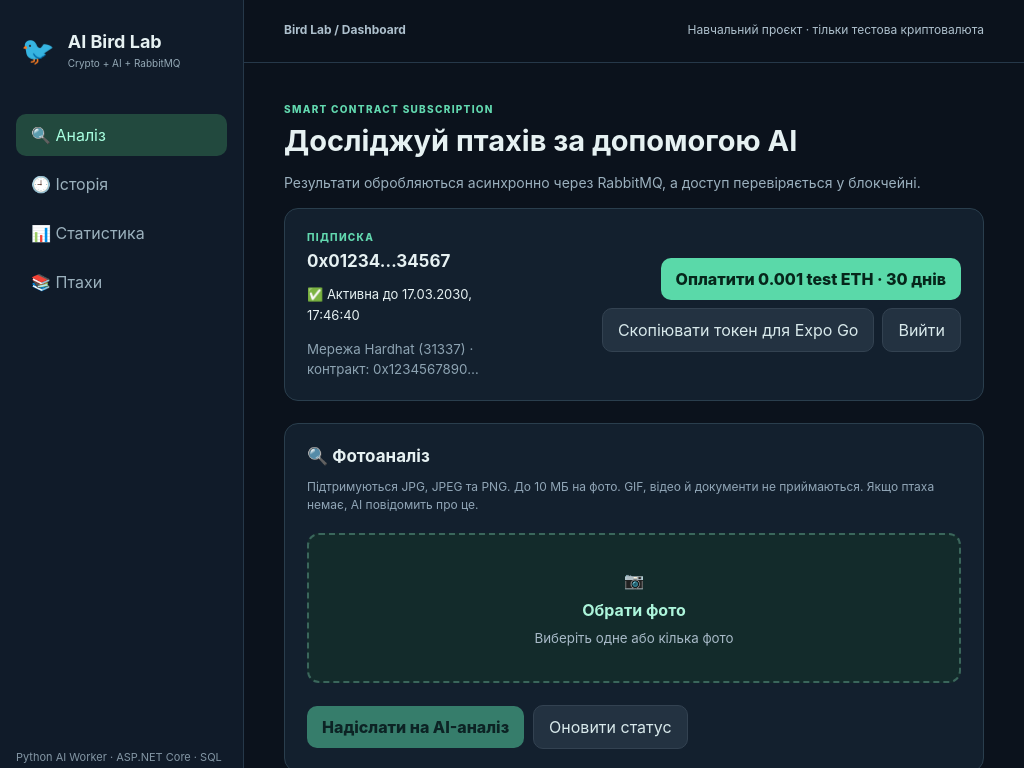
Test: handles a rejected subscription transaction
The width and height of the screenshot is (1024, 768).
Step 1. Click the button "Оплатити 0.001 test ETH · 30 днів" → (811, 278), box top-left (661, 258), bottom-right (961, 300)
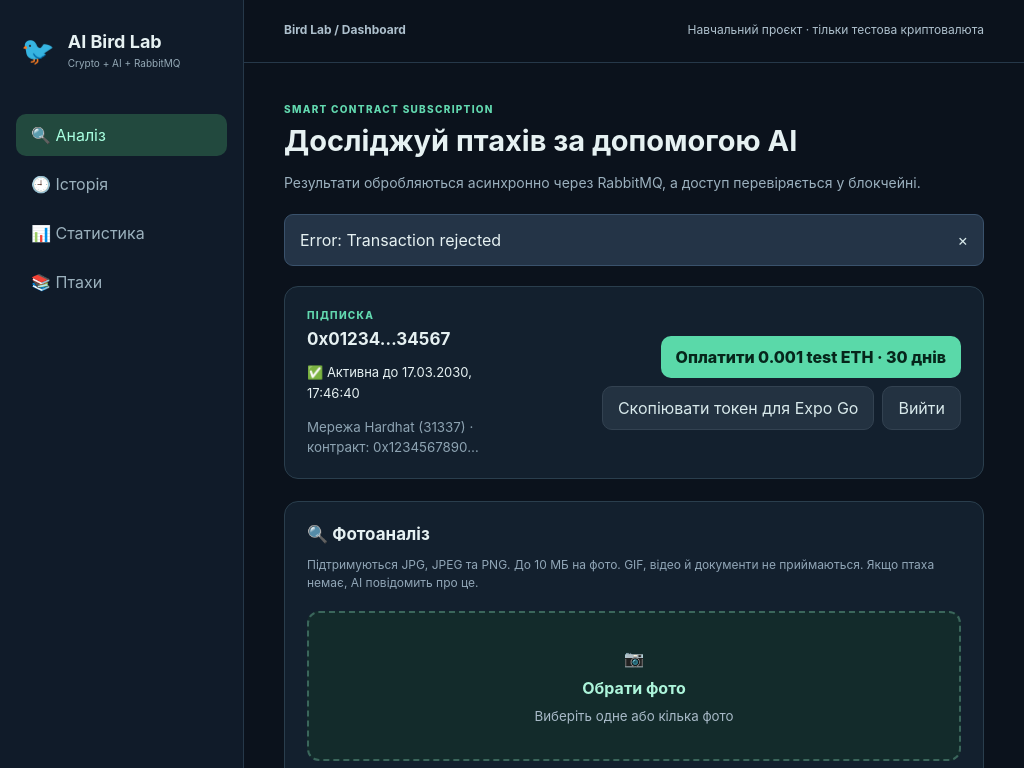
Check: the message shows "Transaction rejected", box top-left (300, 230), bottom-right (501, 250)
